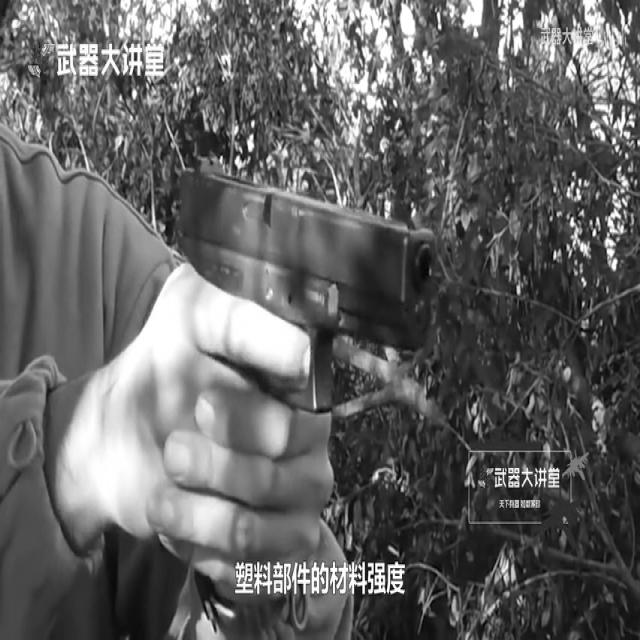Hand-Gun: (134, 74, 488, 640)
